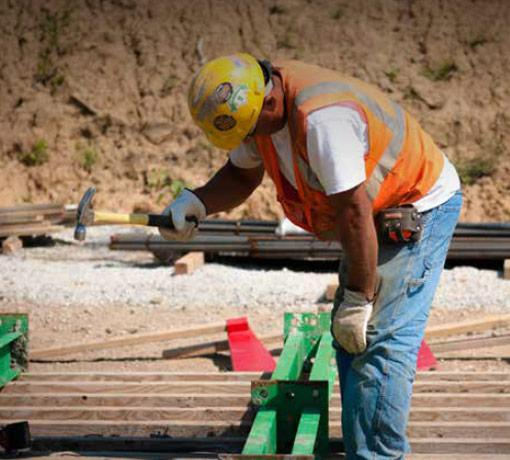helmet: (188, 52, 266, 154)
